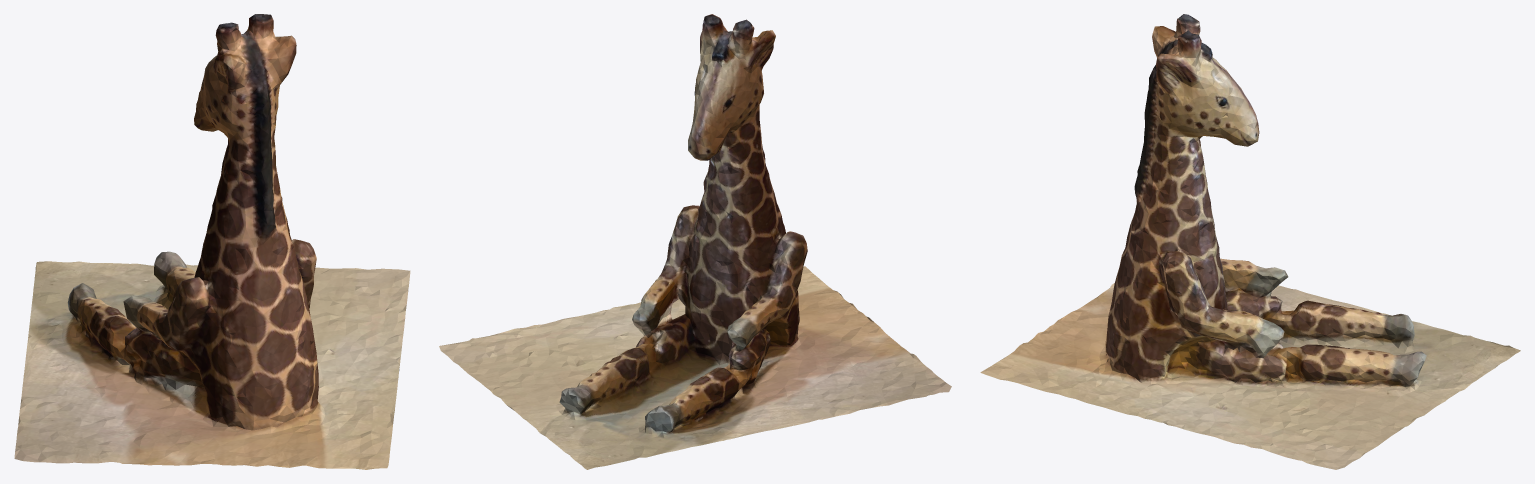
The model's file is brown-puppet.glb.
3 views of the same model, side by side, from view 1: azimuth 30°, elevation 25°; view 2: azimuth 150°, elevation 25°; view 3: azimuth 270°, elevation 25° (orthographic). The views are drawn at different scales.
Size of the model in its own units: 0.1785 by 0.1313 by 0.1894.
1 material, 1 textured.
